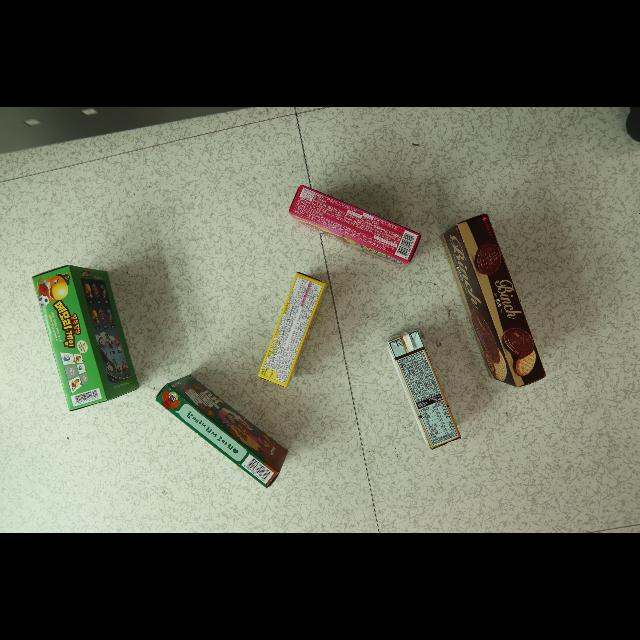box: (442, 214, 547, 388), (31, 265, 138, 411), (155, 375, 288, 489), (289, 185, 422, 267), (388, 331, 461, 450), (258, 272, 326, 387)
